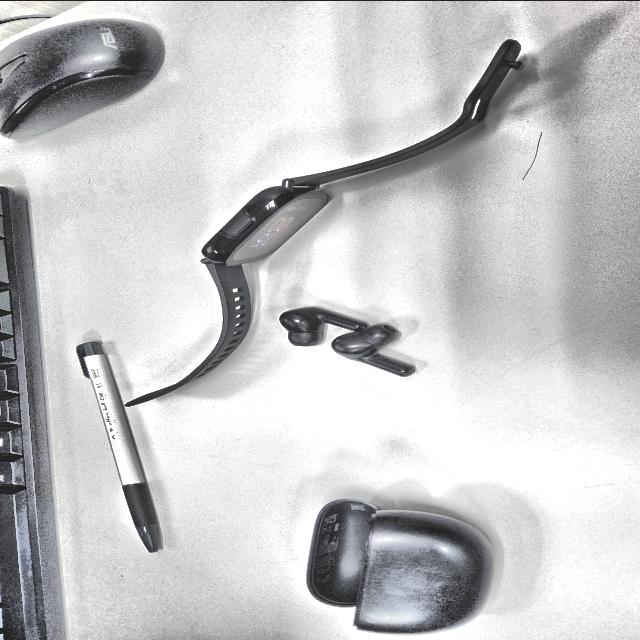Bluetooth headphones: (307, 498, 493, 634), (331, 323, 414, 376), (279, 307, 368, 345)
Electronic watch: (131, 39, 523, 403)
Keyboard: (0, 186, 65, 640)
MOUSE: (0, 18, 164, 138)
